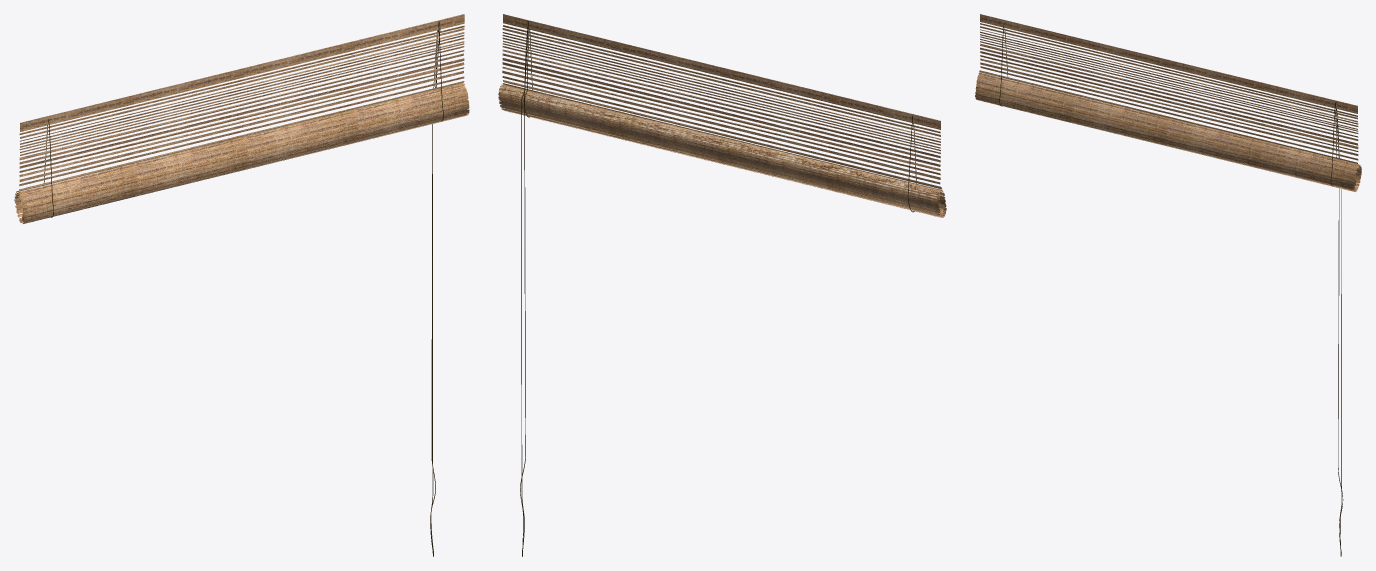
File: Blind.FBX
The picture shows the model from 3 angles, left to right: view 1: azimuth 30°, elevation 25°; view 2: azimuth 150°, elevation 25°; view 3: azimuth 330°, elevation 25°; orthographic projection. The views are drawn at different scales.
Parts seen in each view (by area): view 1: Blind; view 2: Blind; view 3: Blind.
Boxes of the visible parts, x1,y1,x2,y2 form: Blind: (14, 14, 469, 556); Blind: (498, 14, 946, 556); Blind: (975, 14, 1361, 556).
Bounding box in the file's own units: 178 × 207 × 8.43.
Materials: 2 (1 with a texture image).
